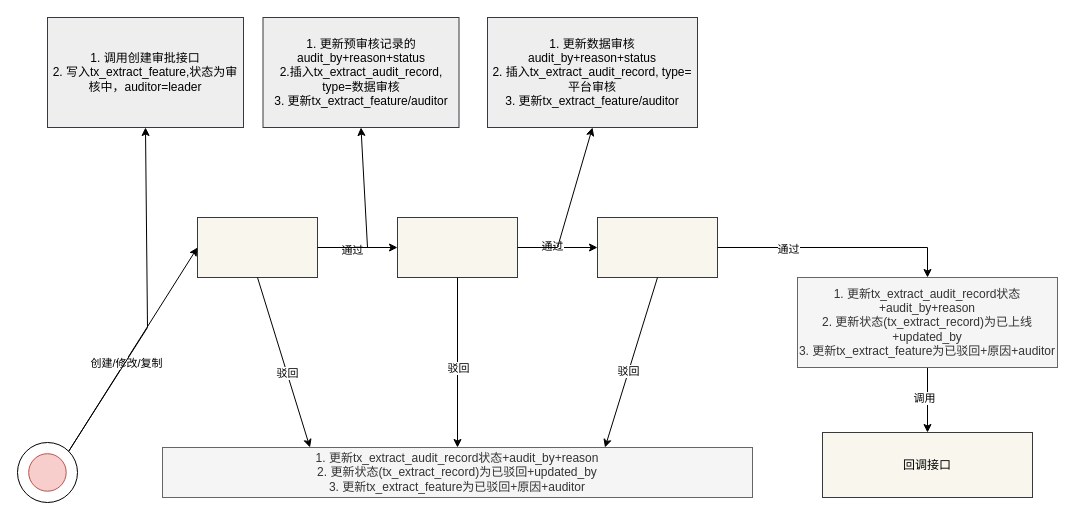
Image size: 1075x520. Some labels were removed from this diagram. The box of each missing label's shape, as (x1, y1, x2, y2) in pixels:
平台审核: (596, 216, 718, 278)
数据审核: (396, 216, 518, 278)
预审核: (196, 216, 318, 278)
